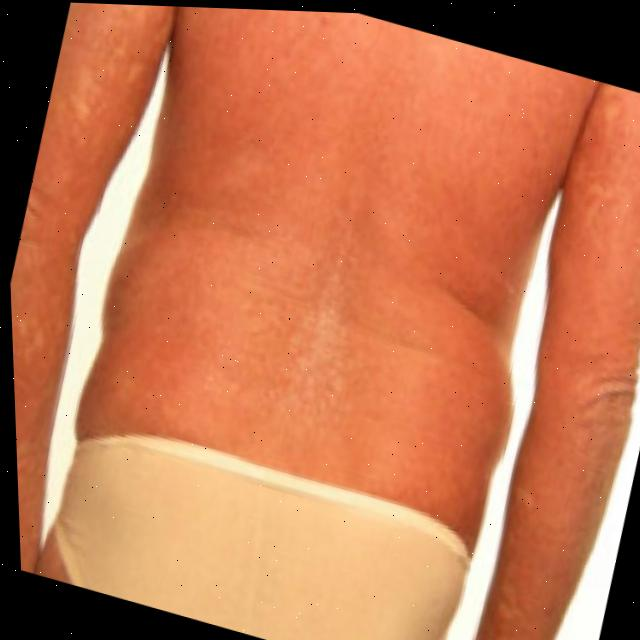Eczema: (93, 3, 595, 552), (0, 0, 201, 583), (435, 73, 640, 640)
